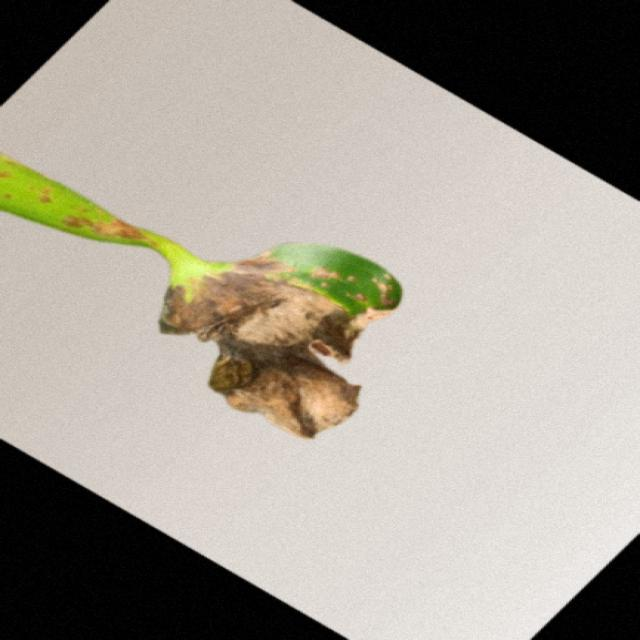daun berpenyakit karat: (0, 155, 401, 438)
